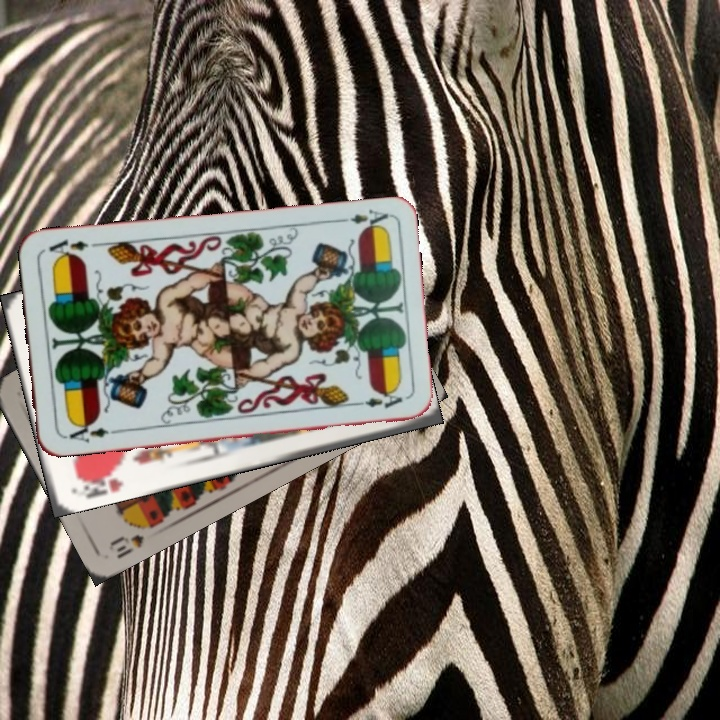EA: (331, 205, 391, 233), (60, 417, 119, 445)
HK: (74, 465, 125, 501)
S10: (104, 518, 158, 562)
